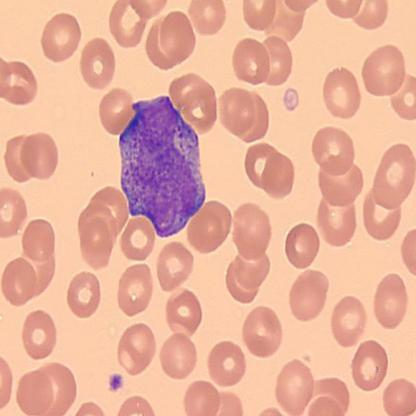Promyelocyte: (117, 92, 206, 236)
